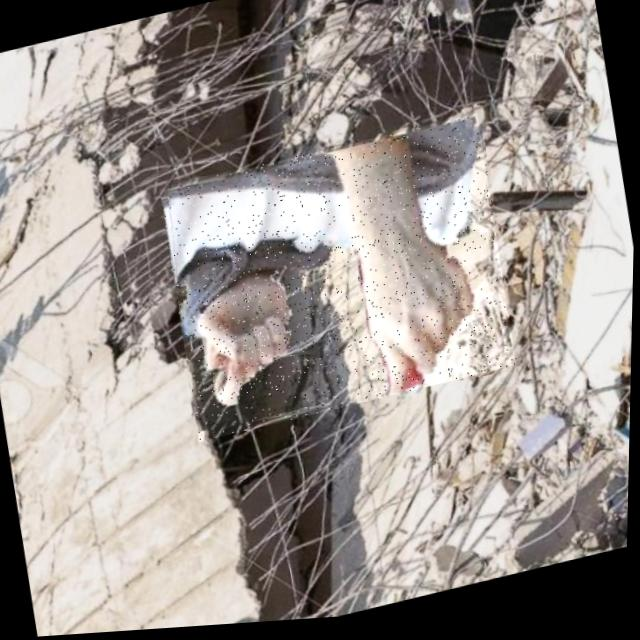Person in Rubble: (156, 114, 524, 445)
